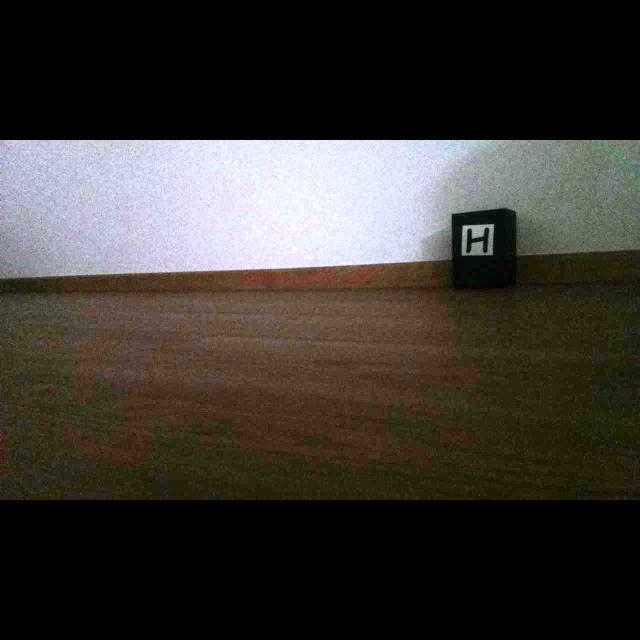H: (466, 227, 489, 253)
